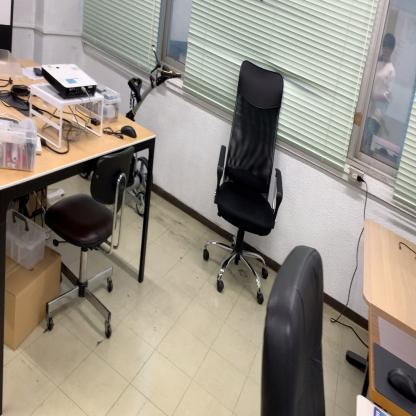chair: (201, 59, 285, 304), (43, 144, 135, 340), (260, 243, 330, 415)
